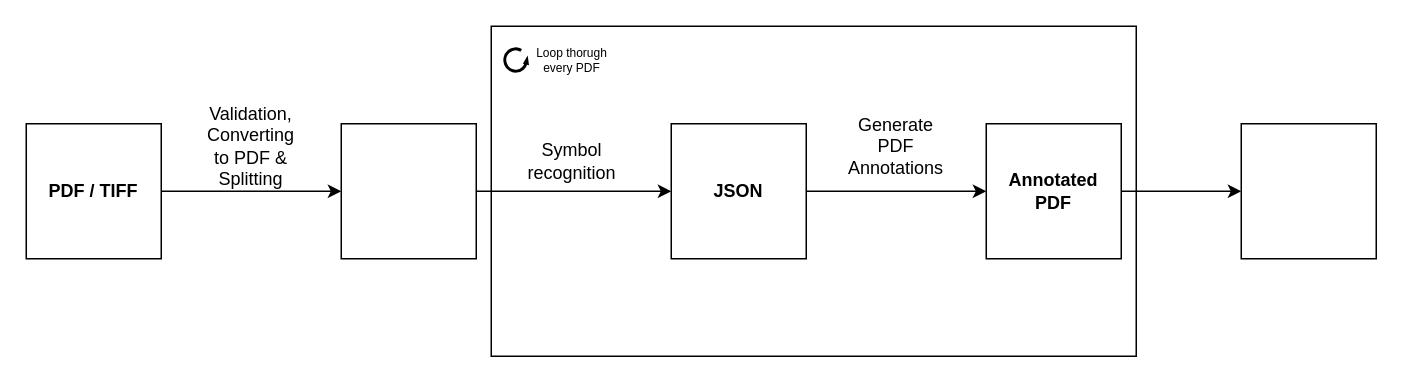
Image size: 1403x383. Some labels were removed from this diagram. Here are the shapes that lost their labels. From the top down, the centre of each, then its label:
At (x=408, y=190): "PDFs (1 PDF per page)".
At (x=1308, y=190): "Merged Annotated PDF".
